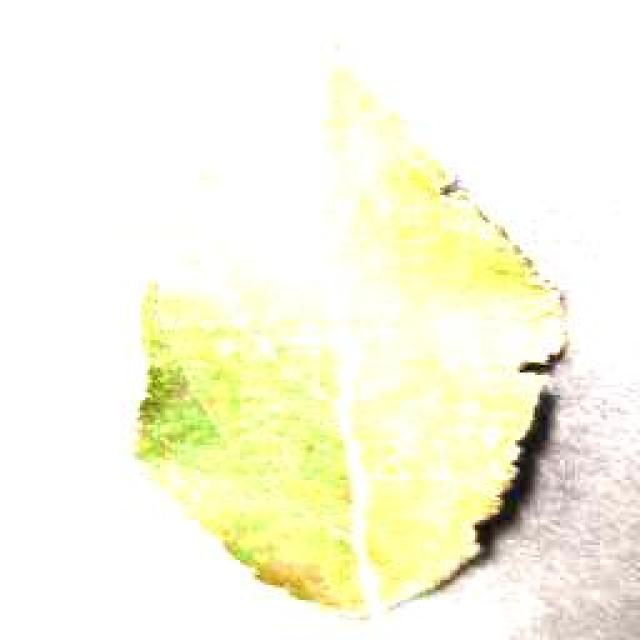apple healthy: (128, 58, 572, 618)
